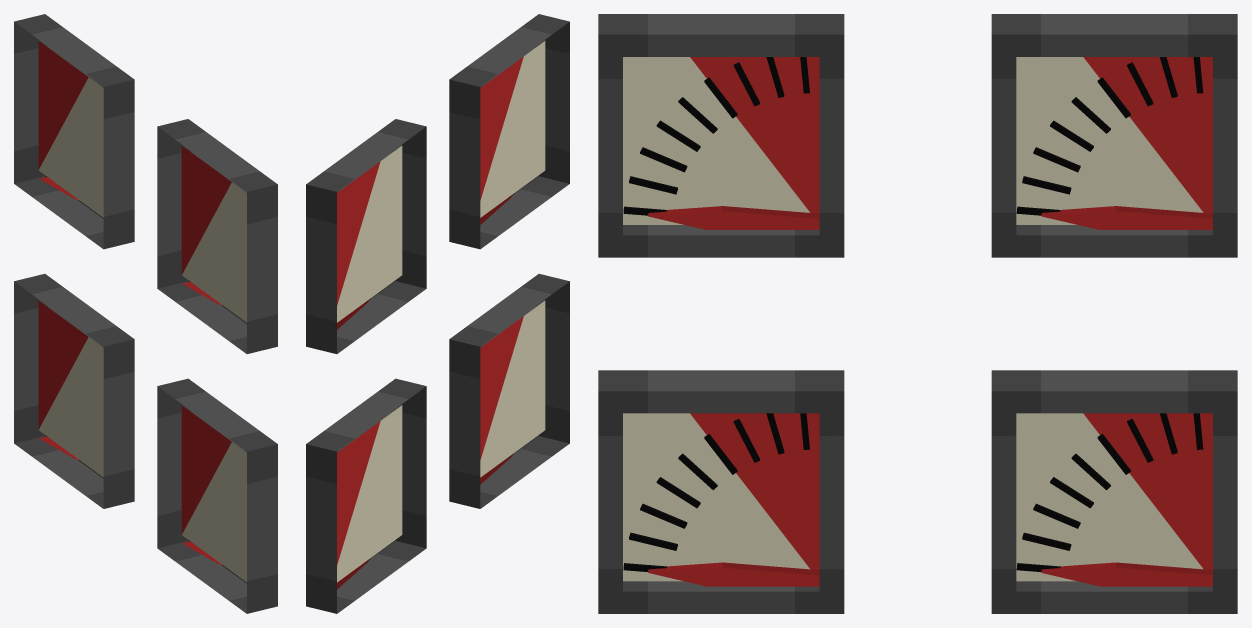
File: face_layout.obj
The picture shows the model from 3 angles, left to right: view 1: azimuth 30°, elevation 25°; view 2: azimuth 150°, elevation 25°; view 3: azimuth 270°, elevation 25°; orthographic projection. The views are drawn at different scales.
Visible parts, largest first — view 1: Gauge_u3, Gauge_u0, Gauge_u1, Gauge_u2; view 2: Gauge_u2, Gauge_u0, Gauge_u1, Gauge_u3; view 3: Gauge_u2, Gauge_u3, Gauge_u0, Gauge_u1, Needle_u2, Needle_u3, Needle_u0, Needle_u1.
Part boxes in pixels (x1,y1,x2,y2): Gauge_u3: (14,274,134,508); Gauge_u0: (157,119,277,353); Gauge_u1: (14,14,134,249); Gauge_u2: (157,378,277,613); Gauge_u2: (449,274,569,508); Gauge_u0: (449,14,569,249); Gauge_u1: (306,119,426,353); Gauge_u3: (306,378,426,613); Gauge_u2: (598,370,844,613); Gauge_u3: (991,370,1237,613); Gauge_u0: (598,14,844,257); Gauge_u1: (991,14,1237,257); Needle_u2: (648,562,819,586); Needle_u3: (1041,562,1212,586); Needle_u0: (648,206,819,229); Needle_u1: (1041,206,1212,229).
Size of the model in its own units: 0.0625 by 0.8125 by 0.8125.
1 material, 1 textured.
